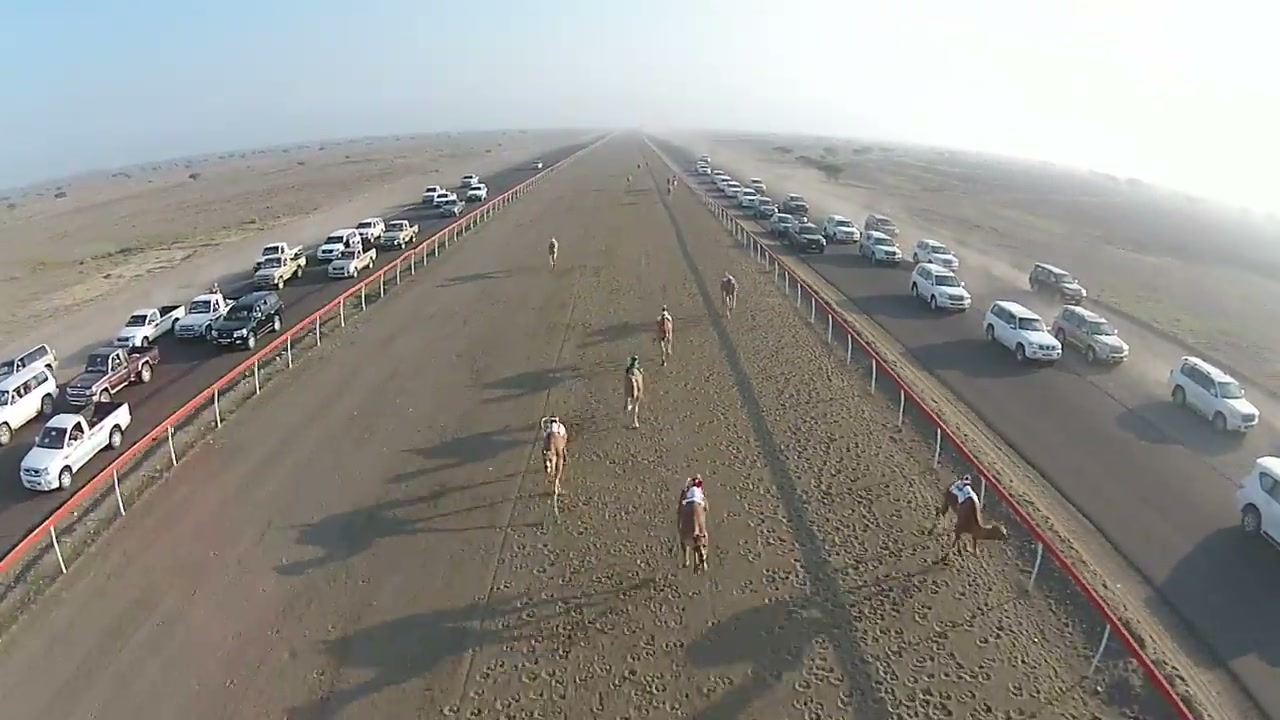animal_footprint: (706, 318, 944, 706), (480, 500, 693, 717)
